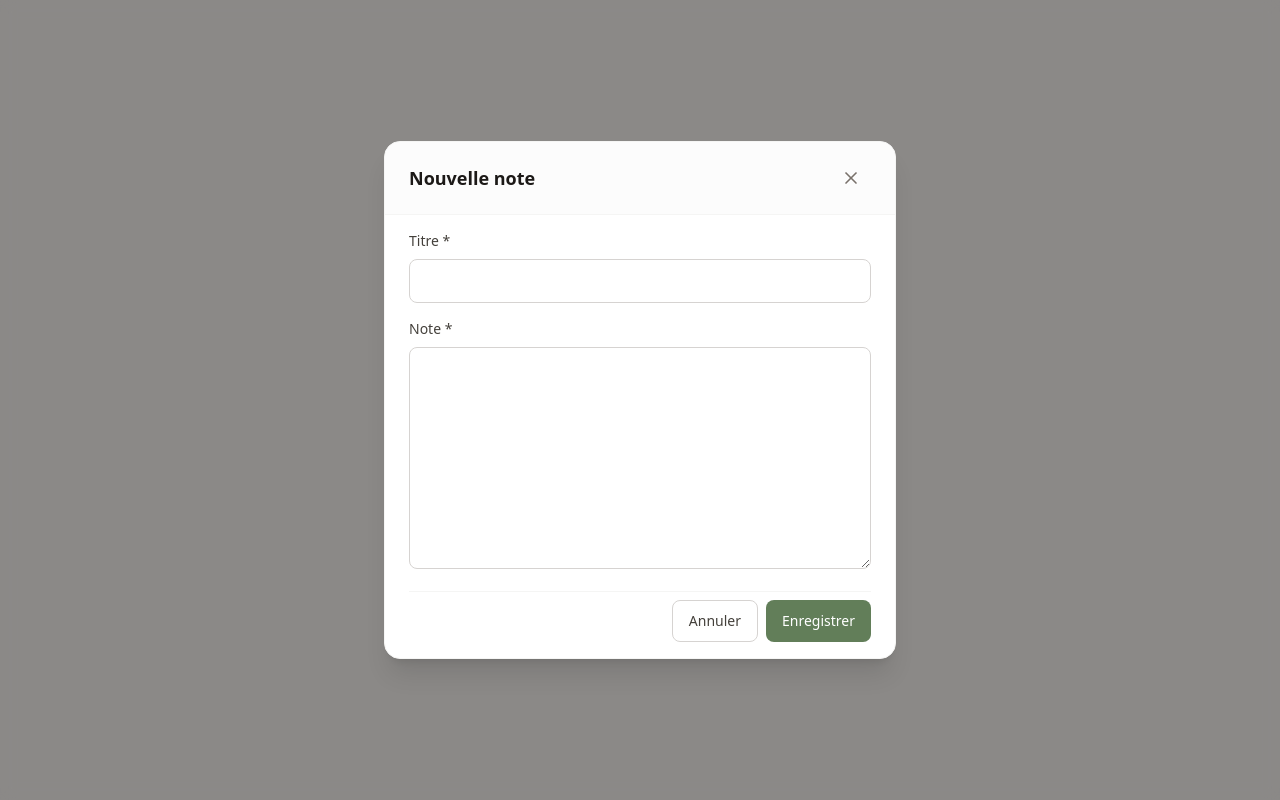
Test case: CoachAthleteNoteModal › en création : affiche le titre de modale et valide titre + corps vides
The width and height of the screenshot is (1280, 800).
Check: the heading "Nouvelle note" is shown, box [409,164,535,192]
What coordinates should you click on to do the following:
click the button "Enregistrer"
I would click on:
 (818, 621)
Its box is [766,600,871,642].
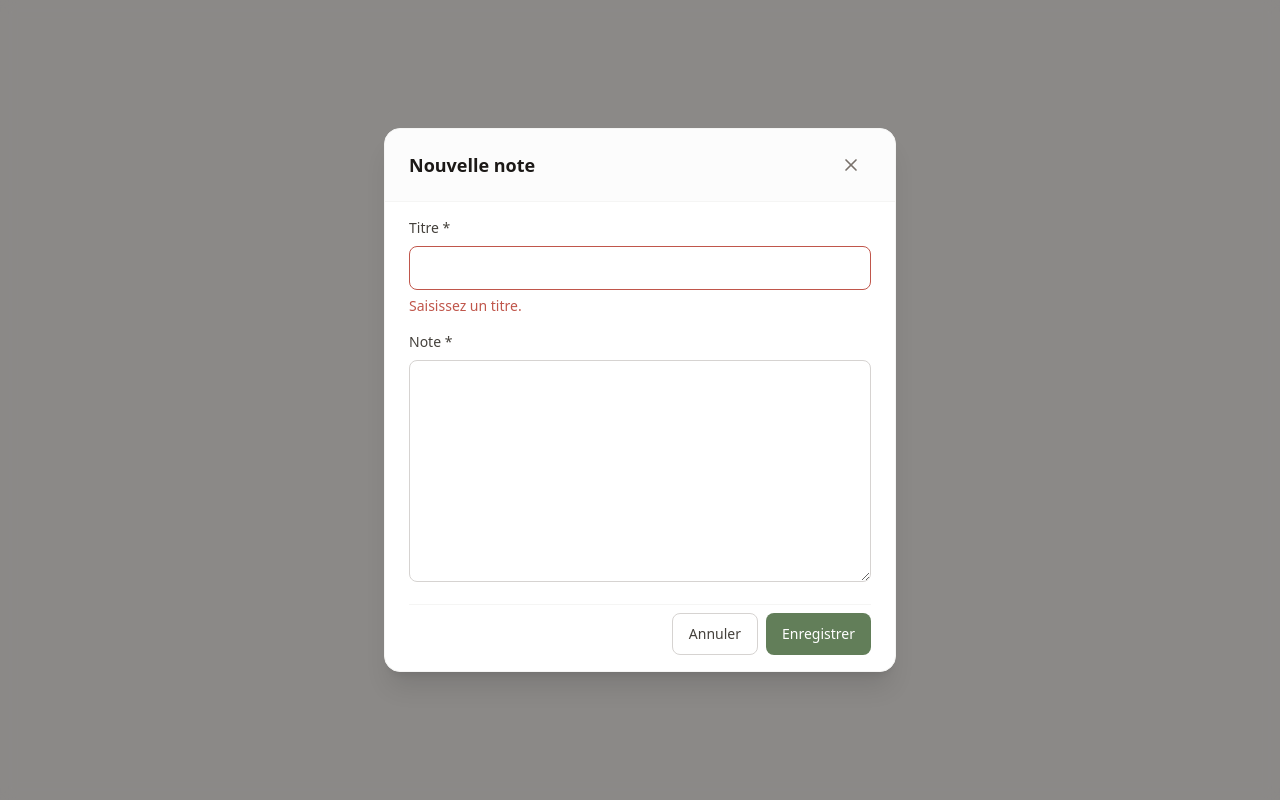
Check: the text "Saisissez un titre." is shown, box [409,296,522,315]
